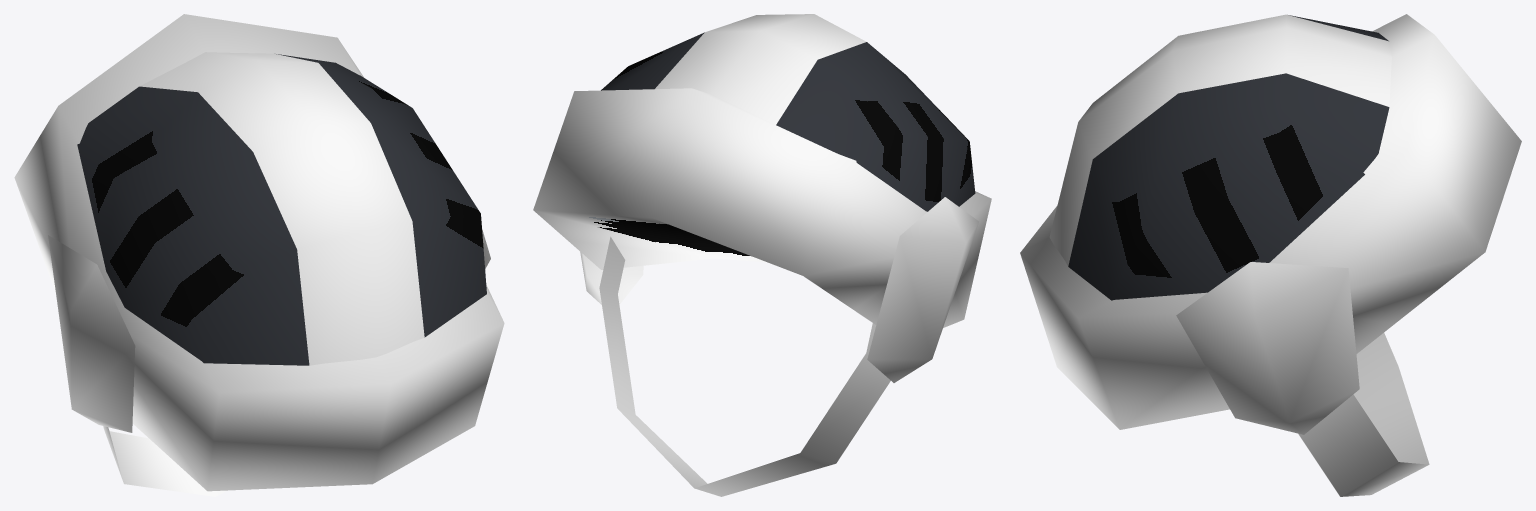
Rendered from helmet.fbx.
3 renders of one model, left to right at view 1: azimuth 30°, elevation 25°; view 2: azimuth 150°, elevation 25°; view 3: azimuth 270°, elevation 25°, orthographic. The views are drawn at different scales.
Visible parts, largest first — view 1: hammerhelmet; view 2: hammerhelmet; view 3: hammerhelmet.
Boxes of the visible parts, x1,y1,x2,y2 form: hammerhelmet: (14, 14, 504, 496); hammerhelmet: (533, 14, 991, 496); hammerhelmet: (1020, 14, 1521, 496).
Size of the model in its own units: 909 by 998 by 971.
1 material, 1 textured.
